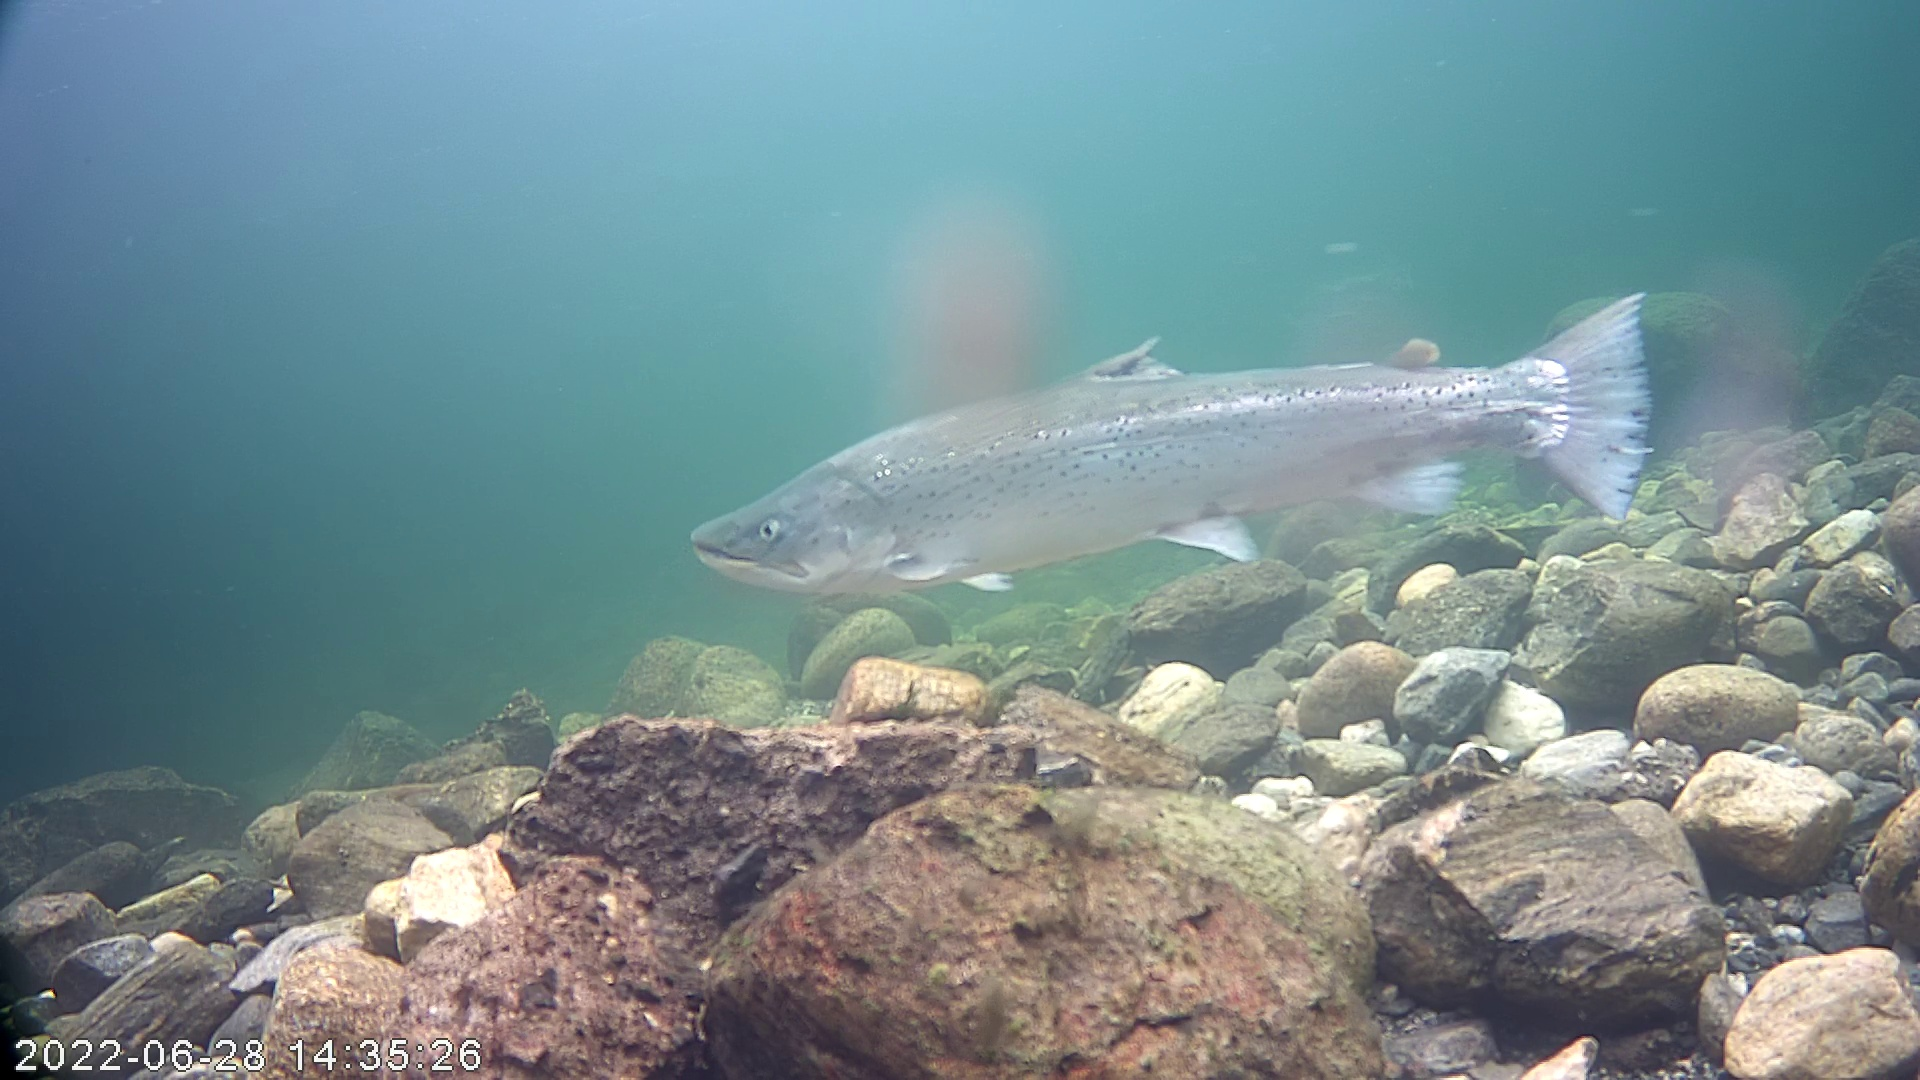salmon: (670, 204, 1691, 647)
